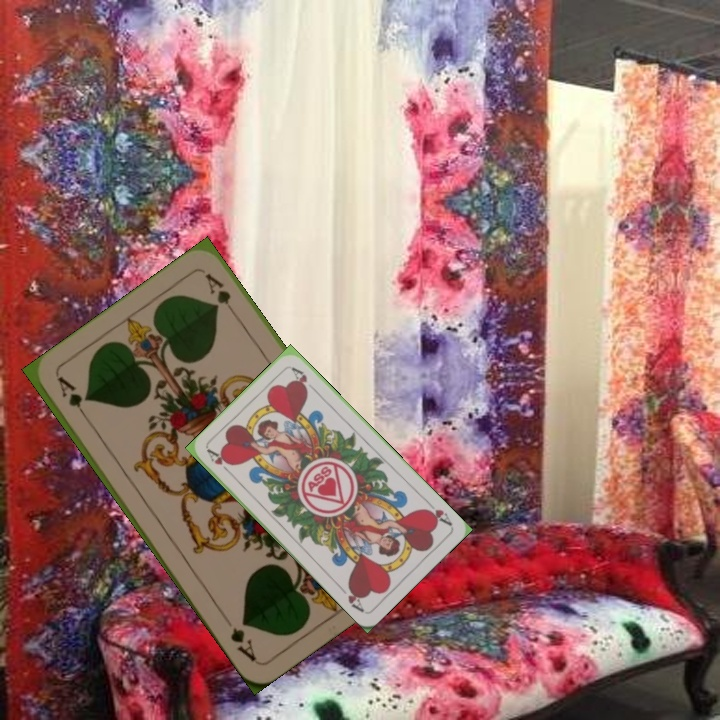GA: (53, 372, 93, 425)
HA: (203, 445, 236, 479), (420, 496, 455, 528)
